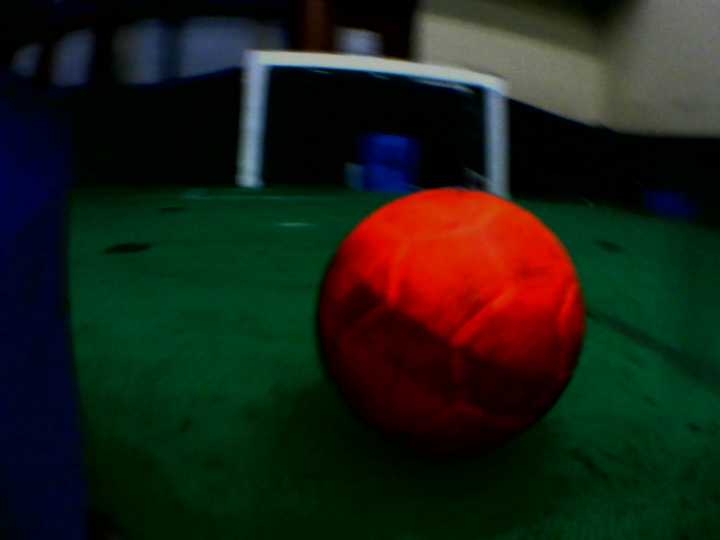bola: (292, 171, 593, 461)
